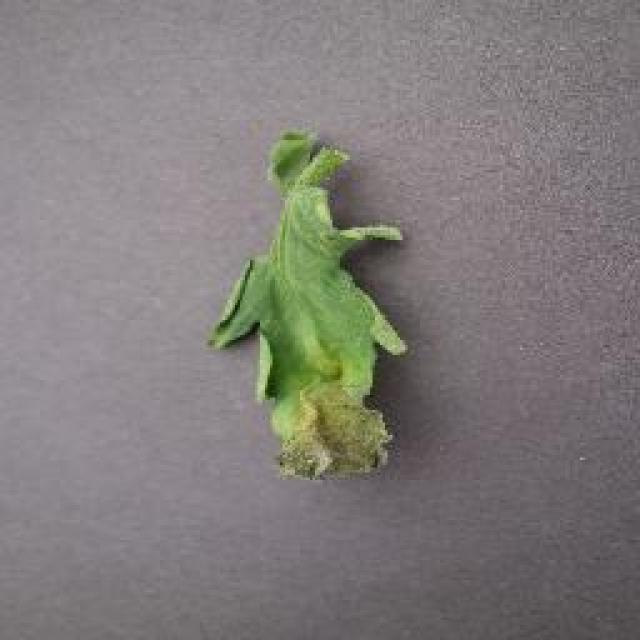Tomato Late Blight: (242, 370, 445, 478)
